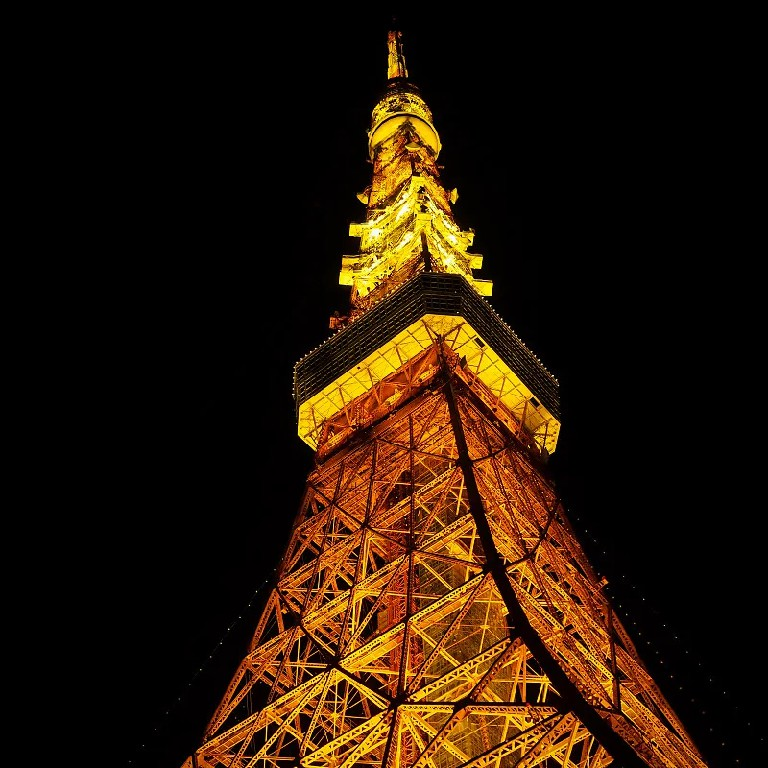Tokyo: (180, 25, 712, 766)
